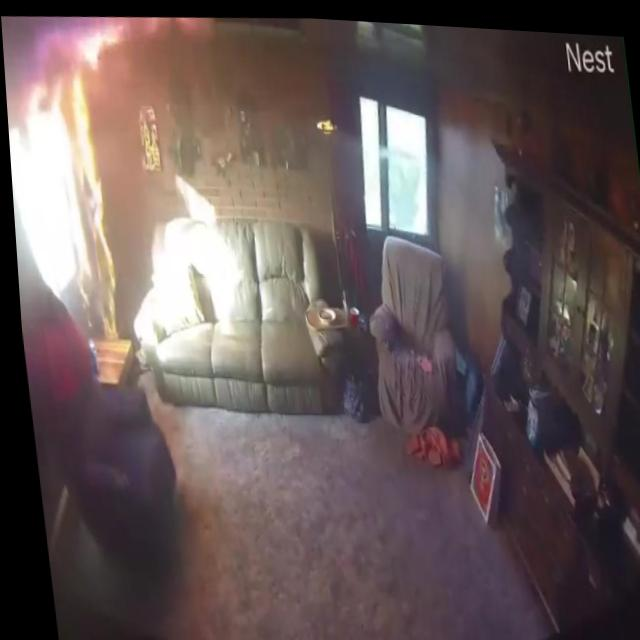fire: (40, 69, 118, 348), (27, 13, 138, 77)
